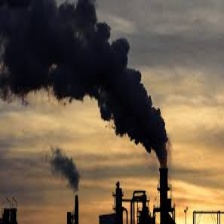smoke: (5, 3, 177, 167), (48, 138, 83, 191)
